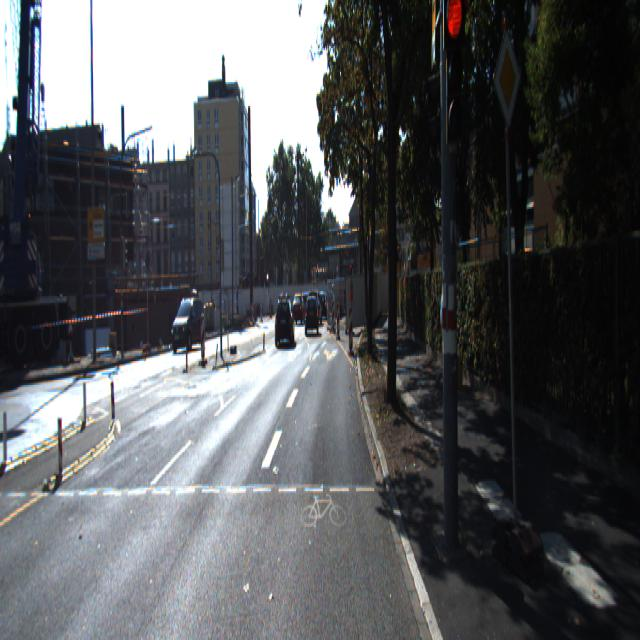Car: (170, 291, 206, 349), (274, 292, 294, 343), (304, 289, 318, 332), (292, 290, 306, 323)
